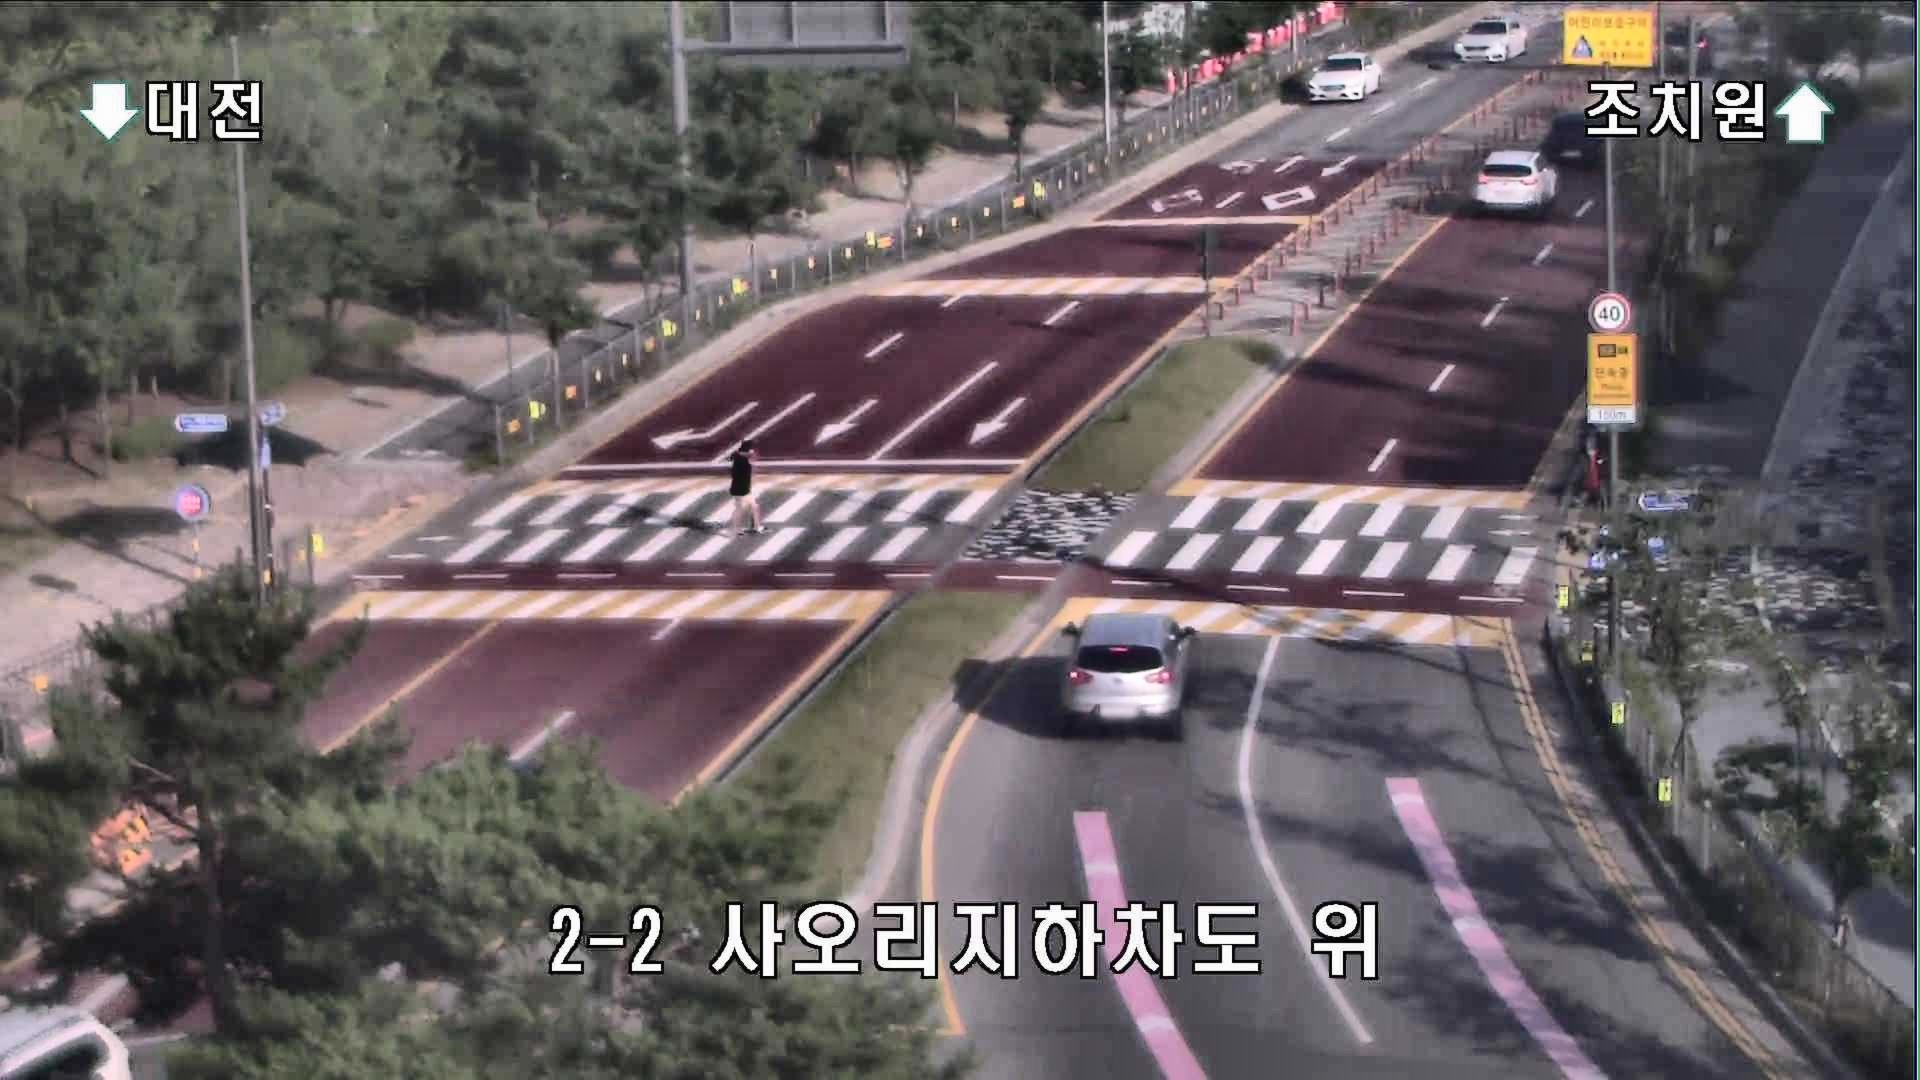crosswalk: (723, 440, 769, 538)
